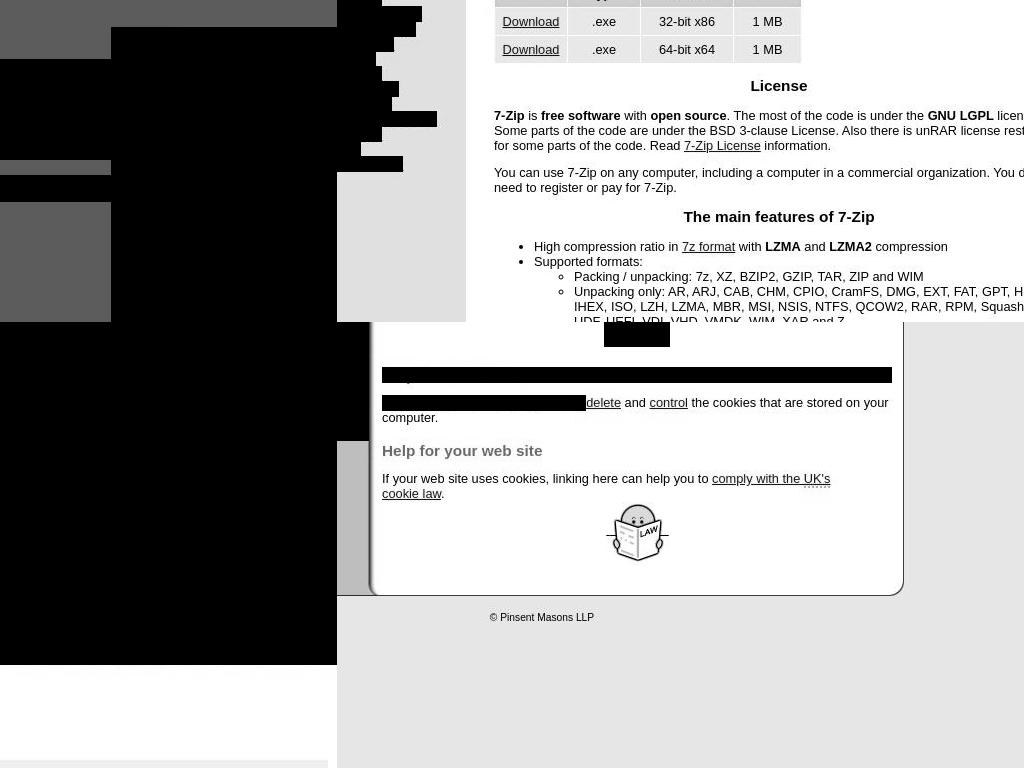heading: (0, 693, 328, 730), (0, 59, 111, 160), (494, 76, 1024, 95), (494, 208, 1024, 227), (382, 367, 892, 383), (382, 443, 892, 459)
image: (0, 322, 337, 665), (111, 27, 337, 322), (337, 581, 912, 598), (604, 500, 670, 564), (604, 322, 670, 347)
link: (337, 111, 437, 127), (337, 6, 422, 22), (337, 21, 416, 37), (683, 137, 761, 153), (337, 156, 403, 172), (337, 81, 399, 97), (337, 36, 394, 52), (502, 13, 559, 29), (502, 41, 559, 57), (337, 96, 392, 112), (681, 238, 735, 254), (337, 66, 382, 82), (337, 126, 382, 142), (337, 51, 376, 67), (649, 395, 688, 411), (586, 395, 622, 411), (803, 470, 830, 488), (337, 141, 361, 157)
text: (494, 107, 1024, 153), (574, 283, 1024, 322), (494, 165, 1024, 196), (382, 395, 888, 426), (574, 268, 1024, 284), (337, 612, 912, 624), (382, 470, 712, 486), (382, 395, 586, 411), (726, 107, 928, 123), (0, 175, 111, 202), (641, 7, 733, 35), (641, 35, 733, 63), (534, 238, 682, 254), (568, 7, 640, 35), (568, 35, 640, 63), (734, 7, 801, 35), (734, 35, 801, 63), (534, 253, 643, 269), (712, 470, 805, 486), (540, 107, 621, 123), (650, 107, 728, 123), (871, 238, 948, 254), (760, 137, 831, 153), (927, 107, 994, 123), (382, 485, 441, 501), (829, 238, 873, 254), (641, 0, 733, 7), (765, 238, 802, 254), (495, 0, 567, 7), (568, 0, 640, 7), (494, 107, 525, 123), (735, 238, 766, 254), (620, 107, 650, 123), (621, 395, 651, 411), (734, 0, 801, 7), (800, 238, 829, 254), (337, 0, 382, 7), (524, 107, 541, 123), (441, 485, 446, 501)
